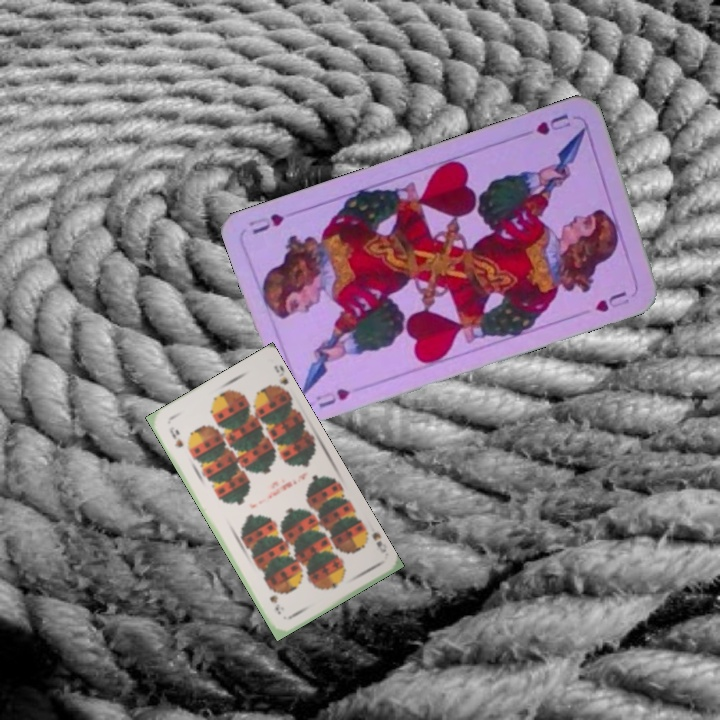HU: (531, 109, 574, 138), (311, 384, 354, 411)
S9: (357, 524, 389, 556), (165, 422, 186, 450)
